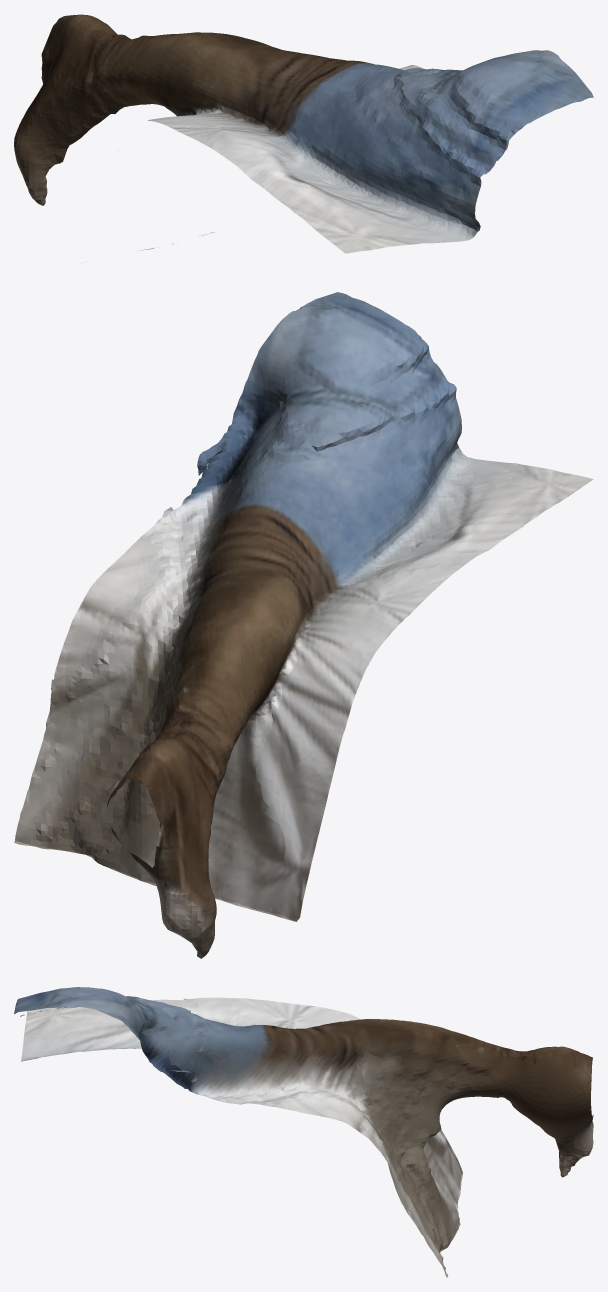
3 renders of one model, top to bottom at view 1: azimuth 30°, elevation 25°; view 2: azimuth 150°, elevation 25°; view 3: azimuth 270°, elevation 25°, orthographic. The views are drawn at different scales.
Size of the model in its own units: 0.4041 by 0.4643 by 0.9322.
1 material, 1 textured.
